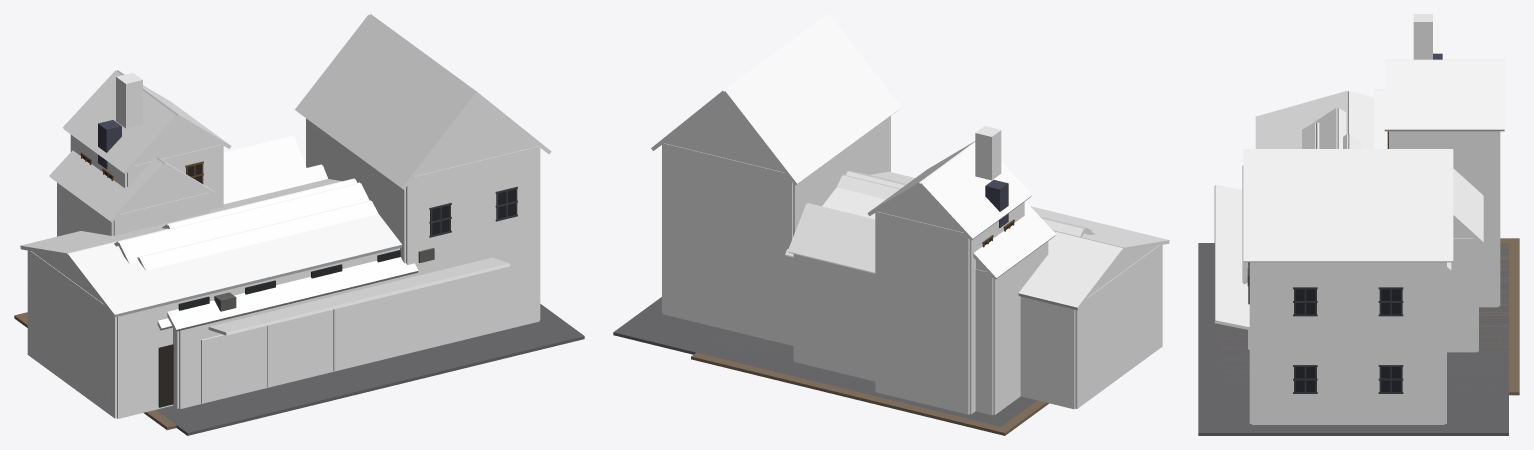
Rendered from BusDesiertoEdificios_sinUV.gltf.
3 views of the same model, side by side, from view 1: azimuth 30°, elevation 25°; view 2: azimuth 150°, elevation 25°; view 3: azimuth 270°, elevation 25° (orthographic). The views are drawn at different scales.
Visible parts, largest first — view 1: Granero_pared_gris, Galpon_chapa_oxidada, Granero_techo_gris, Granero_color, Garaje_tejas, Granero_porton, Garaje_ladrillo, Galpon_color, Casa_techo_madera, Garaje_color; view 2: Granero_pared_gris, Garaje_ladrillo, Galpon_chapa_oxidada, Granero_techo_gris, Garaje_tejas, Granero_color, Garaje_color, Casa_techo_madera; view 3: Granero_pared_gris, Granero_techo_gris, Granero_color, Garaje_tejas, Garaje_ladrillo, Galpon_chapa_oxidada, Garaje_color.
Part boxes in pixels (<box>): Granero_pared_gris: <box>57,96,540,408</box>; Galpon_chapa_oxidada: <box>20,179,509,418</box>; Granero_techo_gris: <box>49,14,551,331</box>; Granero_color: <box>98,120,584,435</box>; Garaje_tejas: <box>62,70,369,330</box>; Granero_porton: <box>201,296,387,403</box>; Garaje_ladrillo: <box>70,73,223,406</box>; Galpon_color: <box>158,248,434,407</box>; Casa_techo_madera: <box>162,178,357,228</box>; Garaje_color: <box>14,152,203,430</box>; Granero_pared_gris: <box>662,94,1048,415</box>; Garaje_ladrillo: <box>793,126,1024,414</box>; Galpon_chapa_oxidada: <box>822,171,1169,409</box>; Granero_techo_gris: <box>651,14,1092,279</box>; Garaje_tejas: <box>787,141,1095,273</box>; Granero_color: <box>613,180,1036,426</box>; Garaje_color: <box>691,219,1048,435</box>; Casa_techo_madera: <box>837,174,900,199</box>; Granero_pared_gris: <box>1249,262,1446,424</box>; Granero_techo_gris: <box>1242,89,1453,284</box>; Granero_color: <box>1198,53,1508,435</box>; Garaje_tejas: <box>1315,59,1504,244</box>; Garaje_ladrillo: <box>1389,14,1500,352</box>; Galpon_chapa_oxidada: <box>1214,90,1373,330</box>; Garaje_color: <box>1220,131,1519,395</box>.
Size of the model in its own units: 46.6 by 26.25 by 30.
